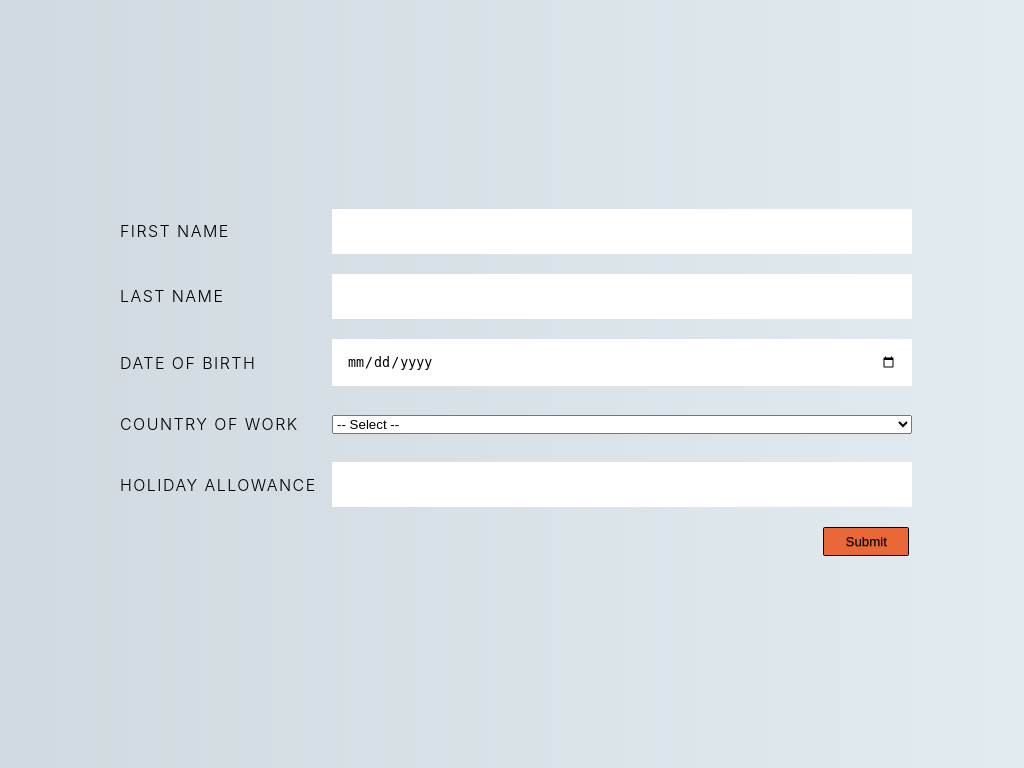
Onboarding form › Spain › displays a validation error if holiday allowance is less than 30
Select "Spain" in the dropdown with test id "country-of-work-select" at [622, 425], box [332,415,912,434]
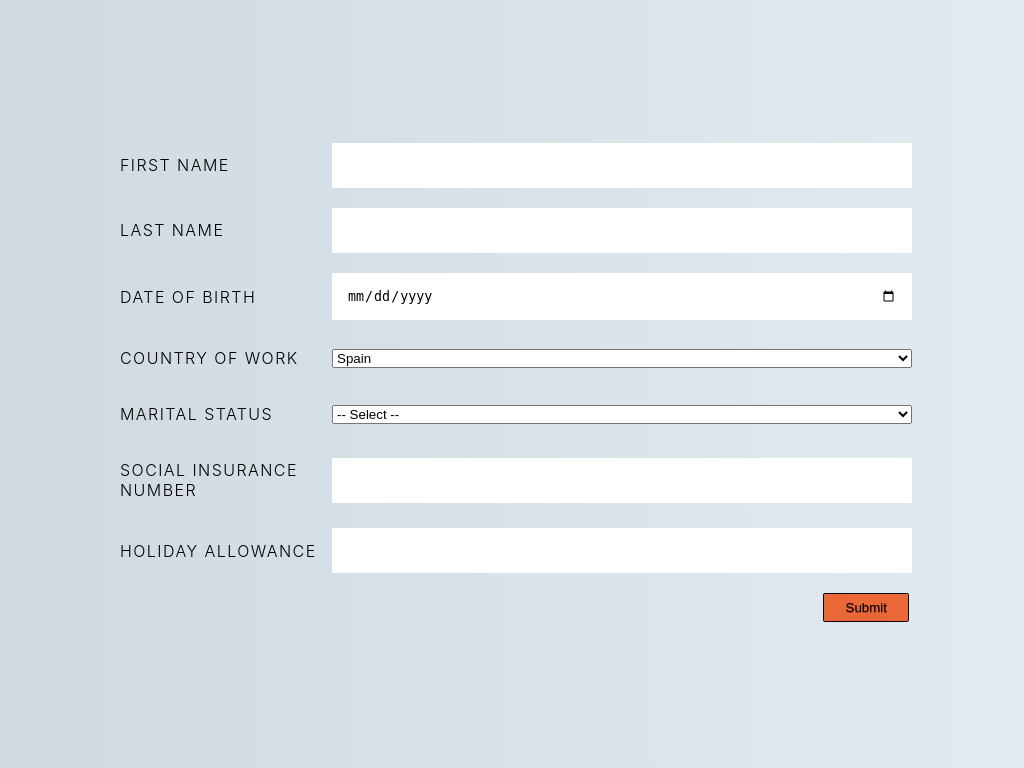
Type "29" into the number field with test id "holiday-allowance-input" at [622, 551], box [332,528,912,573]
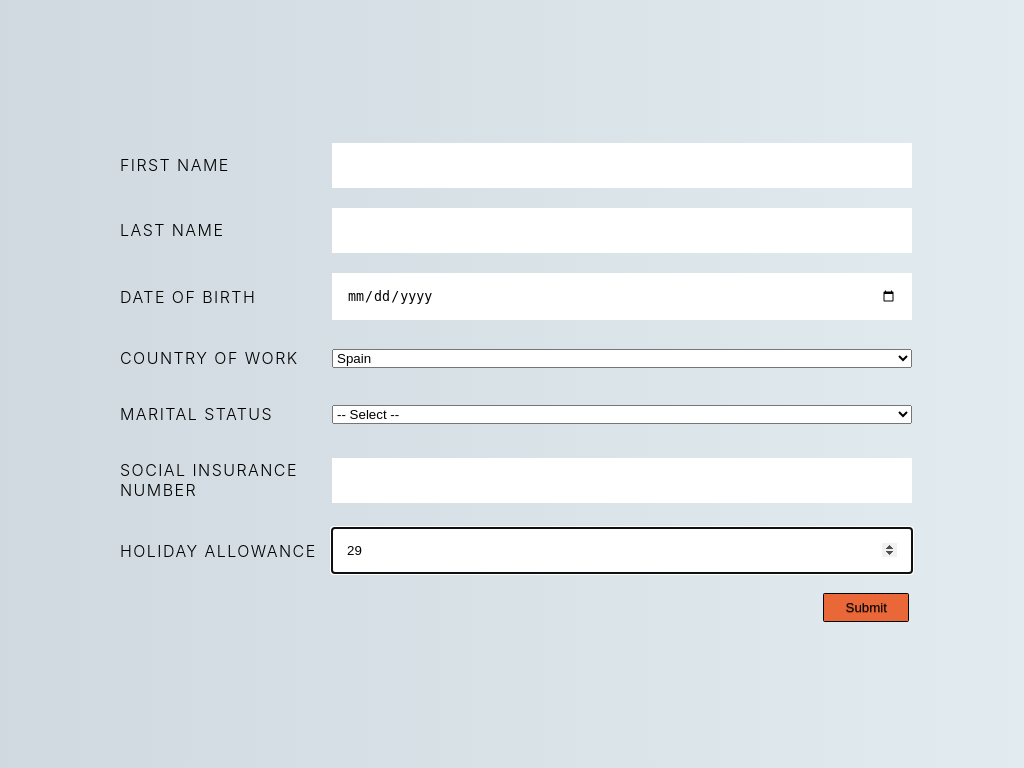
Click the submit button at [866, 608], box [823,593,909,622]
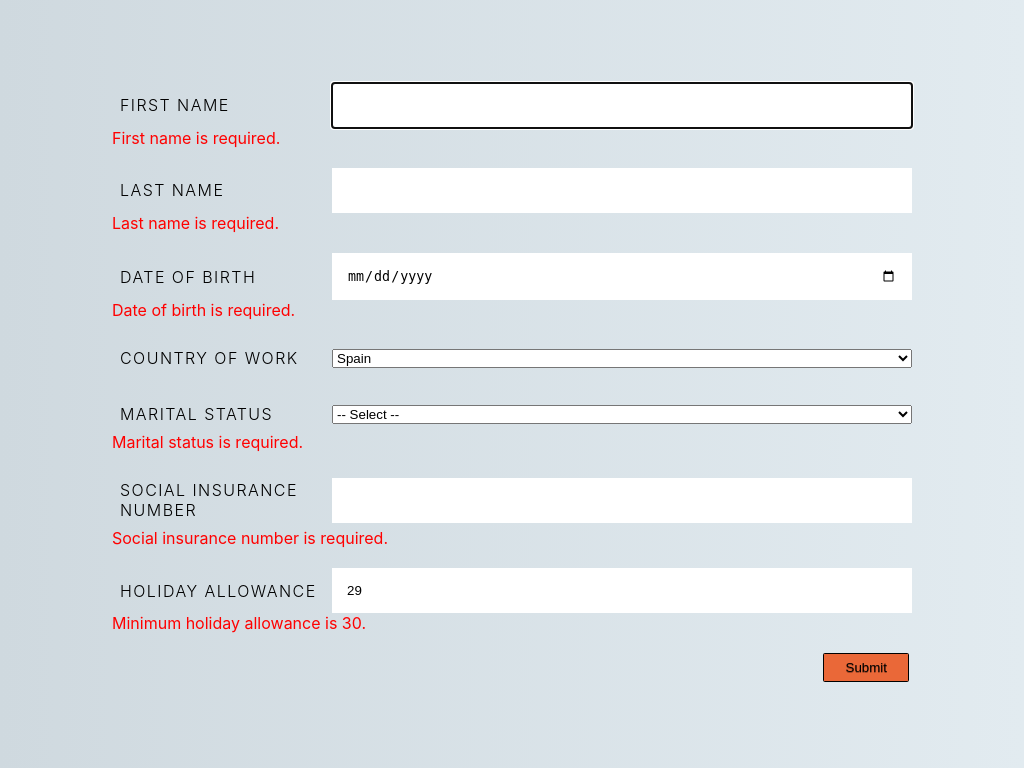
expect the text with test id "validation-error" reads "Minimum holiday allowance is 30.": met, box [112,613,366,633]
